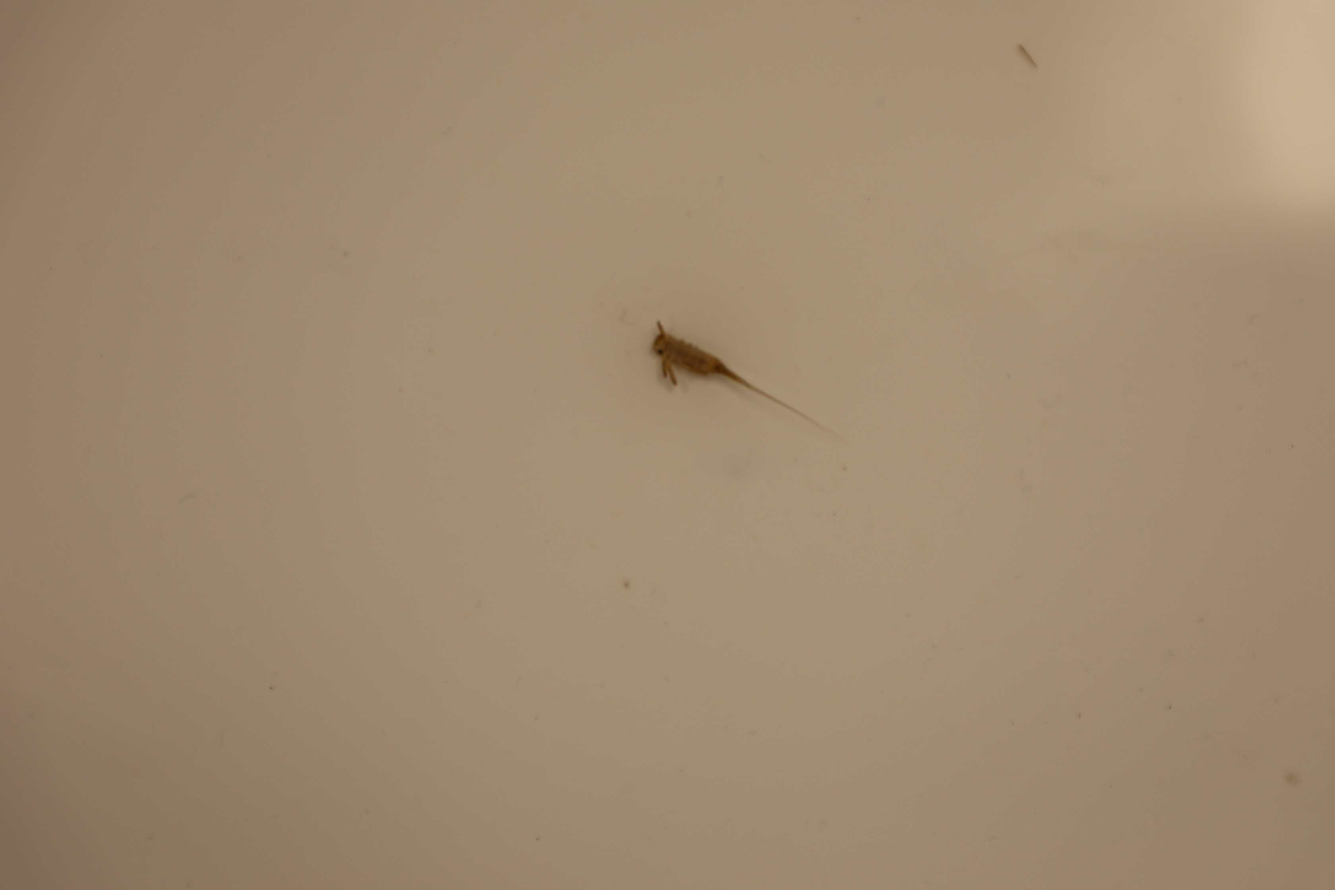Mayfly: (645, 322, 846, 453)
